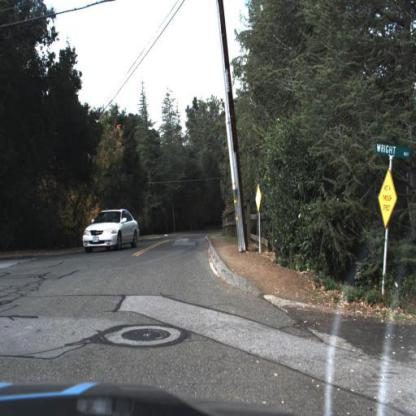car: (83, 209, 141, 251)
